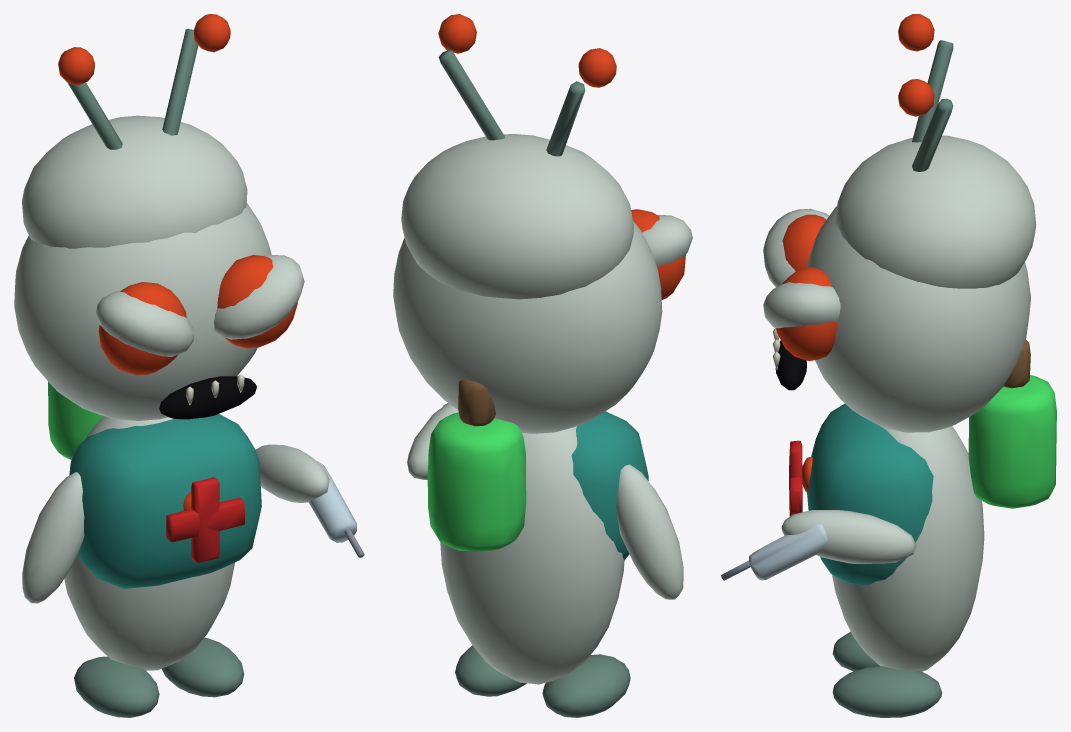
File: Sanitaeter.fbx
3 renders of one model, left to right at view 1: azimuth 30°, elevation 25°; view 2: azimuth 150°, elevation 25°; view 3: azimuth 270°, elevation 25°, orthographic. The views are drawn at different scales.
Parts seen in each view (by area): view 1: Sanitaeter; view 2: Sanitaeter; view 3: Sanitaeter.
Boxes of the visible parts, x1,y1,x2,y2 form: Sanitaeter: (14, 14, 364, 717); Sanitaeter: (393, 14, 692, 717); Sanitaeter: (721, 14, 1056, 717).
Bounding box in the file's own units: 0.6302 × 1.48 × 0.6977.
